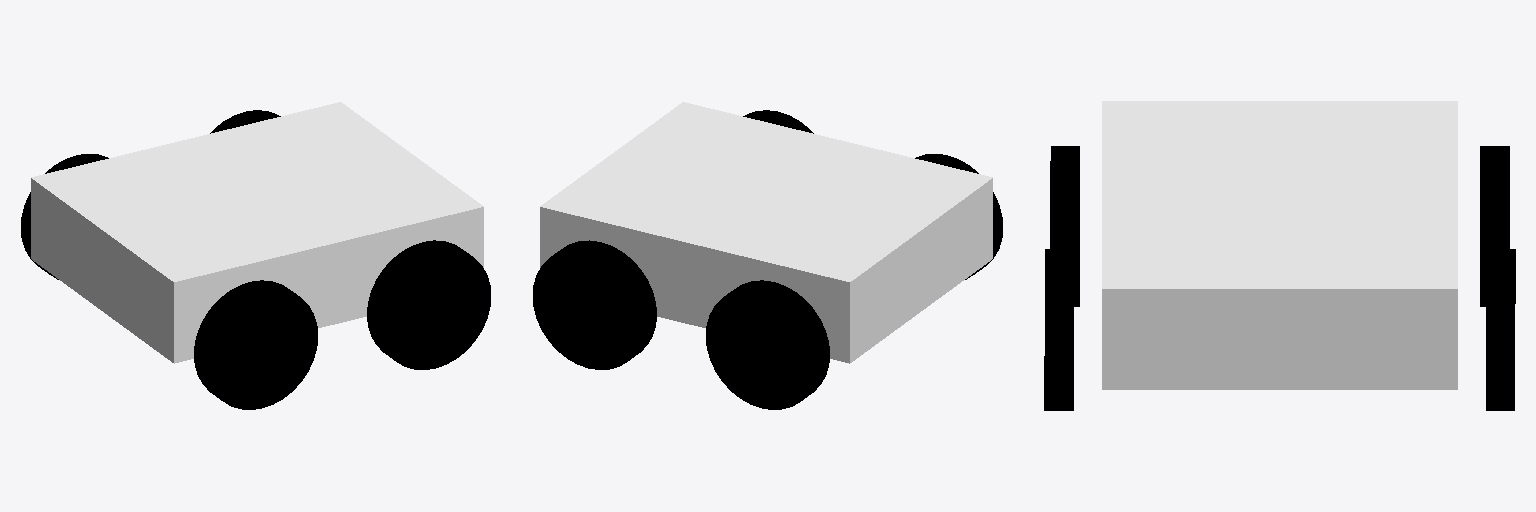
URDF robot description (wheeltec_robot):
<?xml version="1.0" ?>
<robot name="wheeltec_robot">

    <link name="base_link">
        <visual>
            <origin xyz="-0.16 0 0.16" rpy="0 0 0" />
            <geometry>
                <box size="0.6 0.48 0.150"/>
            </geometry>
            <material name="white">
                <color rgba="1 1 1 1"/>
            </material>
        </visual>
    </link>   

    <joint name="left_wheel_joint" type="continuous">
        <origin xyz="-0.33 0.29 0.109" rpy="1.57 0 0"/>
        <parent link="base_link"/>
        <child link="left_wheel_link"/>
        <axis xyz="0 1 0"/>
    </joint>

    <link name="left_wheel_link">
        <visual>
            <origin xyz="0 0 0" rpy="0 0 0" />
            <geometry>
                <cylinder radius="0.109" length = "0.04"/>
            </geometry>
            <material name="black">
                <color rgba="0 0 0 1"/>
            </material>
        </visual>
    </link>

    <joint name="right_wheel_joint" type="continuous">
        <origin xyz="-0.33 -0.29 0.109" rpy="1.57 0 0"/>
        <parent link="base_link"/>
        <child link="right_wheel_link"/>
        <axis xyz="0 1 0"/>
    </joint>

    <link name="right_wheel_link">
        <visual>
            <origin xyz="0 0 0" rpy="0 0 0" />
            <geometry>
                <cylinder radius="0.109" length = "0.04"/>
            </geometry>
            <material name="black">
                <color rgba="0 0 0 1"/>
            </material>
        </visual>
    </link>

      <joint name="left_front_joint" type="continuous">
        <origin xyz="0.0 0.298 0.109" rpy="1.57 0 0"/>
        <parent link="base_link"/>
        <child link="left_front_link"/>
        <axis xyz="0 1 0"/>
    </joint>

    <link name="left_front_link">
        <visual>
            <origin xyz="0 0 0" rpy="0 0 0" />
            <geometry>
                <cylinder radius="0.109" length = "0.04"/>
            </geometry>
            <material name="black">
                <color rgba="0 0 0 1"/>
            </material>
        </visual>
    </link>

    <joint name="right_front_joint" type="continuous">
        <origin xyz="0.0 -0.298 0.109" rpy="1.57 0 0"/>
        <parent link="base_link"/>
        <child link="right_front_link"/>
        <axis xyz="0 1 0"/>
    </joint>

    <link name="right_front_link">
        <visual>
            <origin xyz="0 0 0" rpy="0 0 0" />
            <geometry>
                <cylinder radius="0.109" length = "0.04"/>
            </geometry>
            <material name="black">
                <color rgba="0 0 0 1"/>
            </material>
        </visual>
    </link>


</robot>

--- What the picture shows (computed from the rendered views, not written in the file) ---
Views: 3 orthographic renders of the robot side by side, from view 1: azimuth 30°, elevation 25°; view 2: azimuth 150°, elevation 25°; view 3: azimuth 270°, elevation 25°.
Model wheeltec_robot with 5 links and 4 joints (4 continuous), rooted at base_link, posed every joint at zero.
Visible links, largest first — view 1: base_link, right_front_link, right_wheel_link, left_wheel_link, left_front_link; view 2: base_link, left_wheel_link, left_front_link, right_wheel_link, right_front_link; view 3: base_link, left_front_link, right_front_link, left_wheel_link, right_wheel_link.
Link boxes in pixels (x1=…): base_link: x1=31, y1=102, x2=483, y2=363; right_front_link: x1=367, y1=240, x2=490, y2=369; right_wheel_link: x1=194, y1=280, x2=317, y2=409; left_wheel_link: x1=21, y1=154, x2=108, y2=279; left_front_link: x1=210, y1=110, x2=280, y2=133; base_link: x1=540, y1=102, x2=992, y2=363; left_wheel_link: x1=706, y1=280, x2=829, y2=409; left_front_link: x1=533, y1=240, x2=656, y2=369; right_wheel_link: x1=915, y1=154, x2=1002, y2=279; right_front_link: x1=743, y1=110, x2=813, y2=133; base_link: x1=1102, y1=101, x2=1457, y2=389; left_front_link: x1=1486, y1=249, x2=1515, y2=410; right_front_link: x1=1044, y1=249, x2=1073, y2=410; left_wheel_link: x1=1480, y1=146, x2=1509, y2=306; right_wheel_link: x1=1050, y1=146, x2=1079, y2=306.
Size in the robot's own frame: 0.6 by 0.6362 by 0.235 metres.
Geometry: primitives only (box / cylinder / sphere), no mesh files.